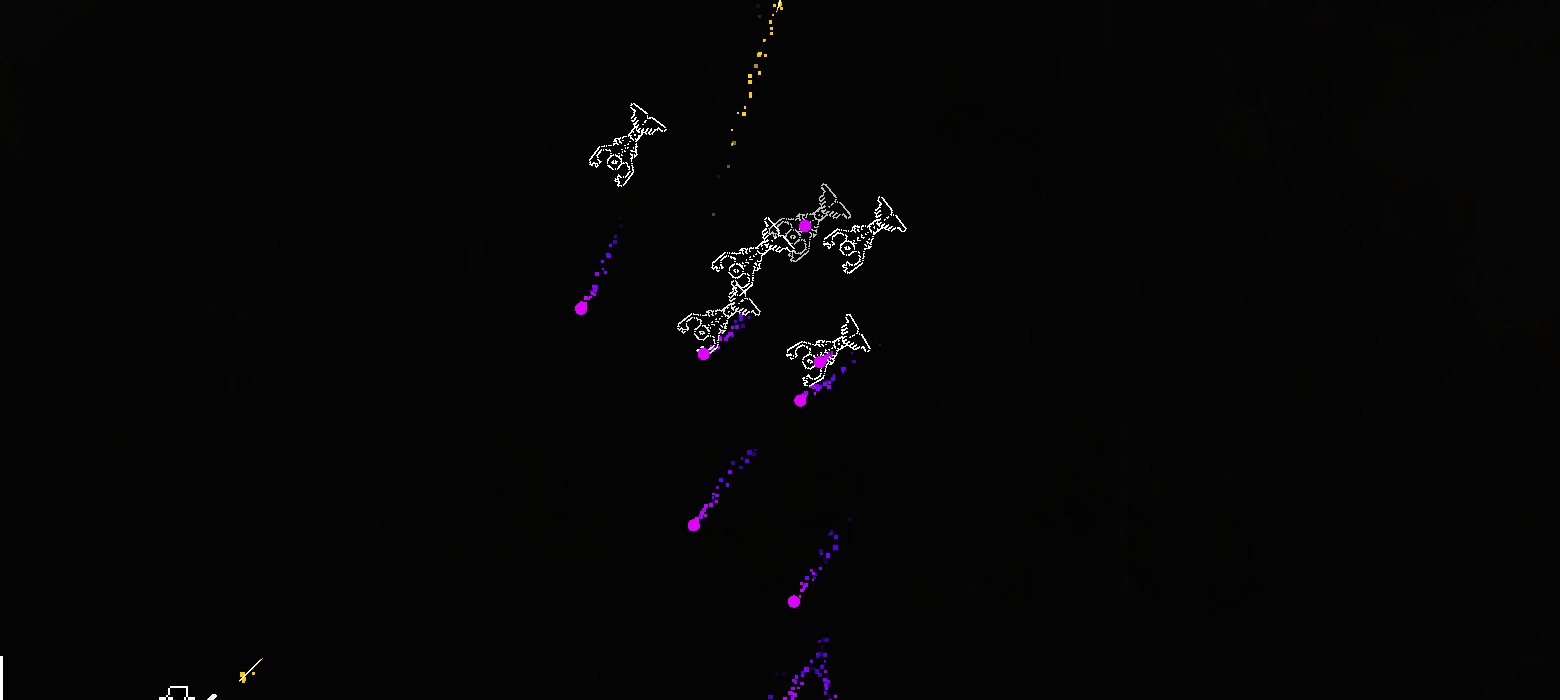enemy: (587, 101, 667, 187), (711, 216, 795, 296), (768, 183, 851, 263), (675, 280, 761, 356), (786, 313, 871, 386)
